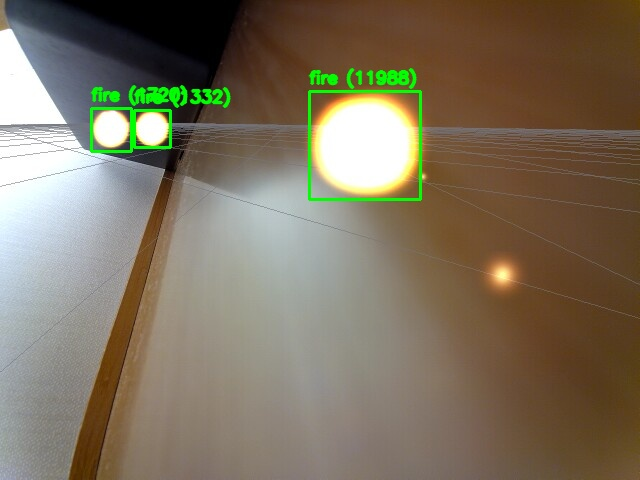fire: (309, 91, 420, 199), (91, 108, 131, 151), (134, 110, 170, 147)
